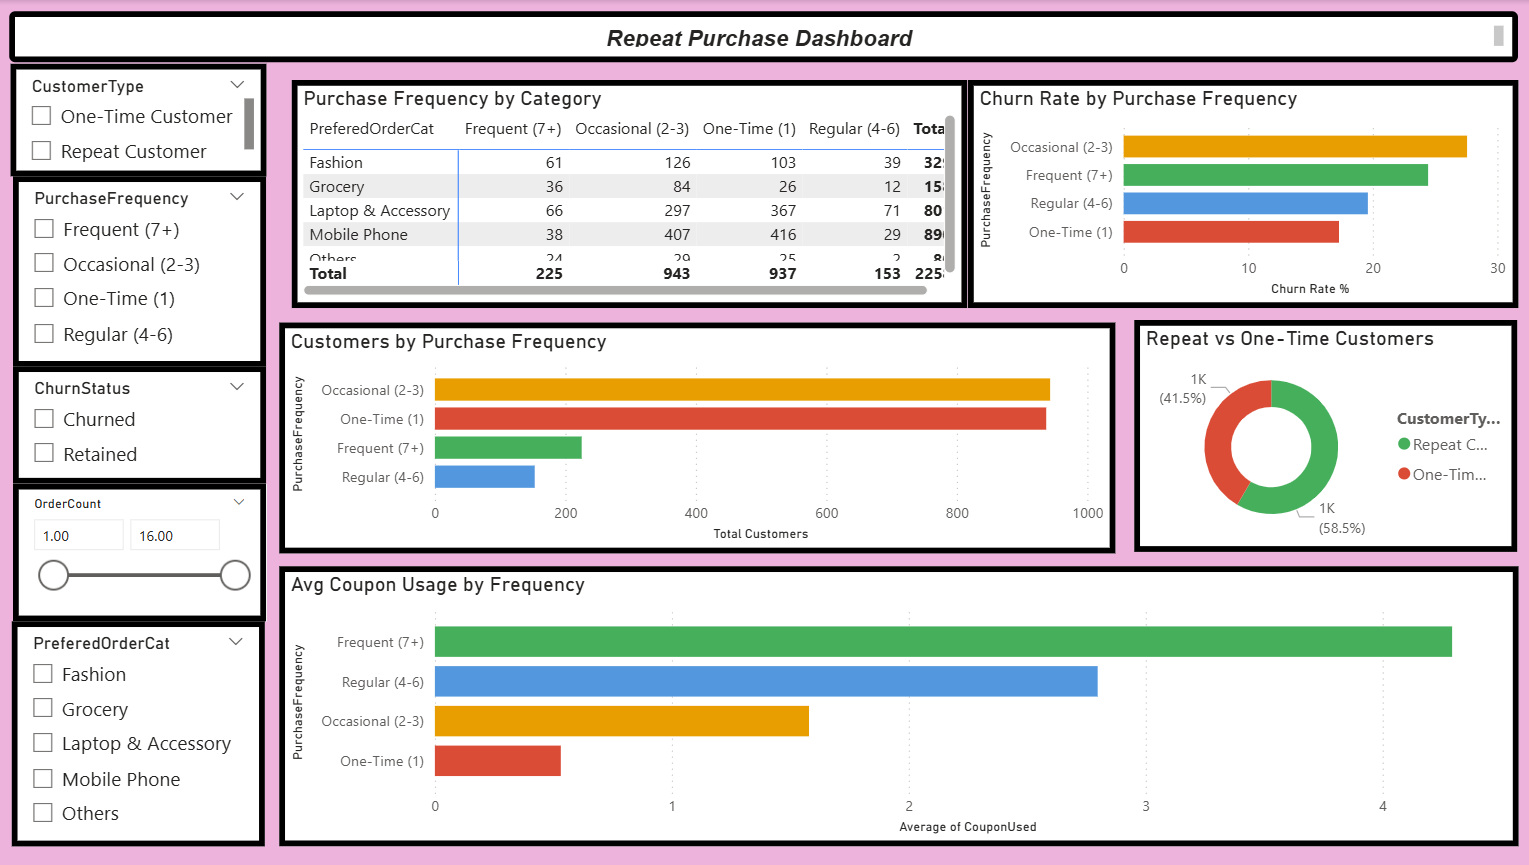

The page's visual inventory and layout, read from the dashboard file:
{"tool":"powerbi","page":{"name":"Repeat Purchase","canvas":[1280,720],"ordinal":3},"visuals":[{"type":"barChart","title":"Churn Rate by Purchase Frequency","fields":{"Category":["ecommerce.PurchaseFrequency"],"Y":["ecommerce.Churn Rate %"]},"box":[810.5,66,457.5,189.7],"z":0},{"type":"donutChart","title":"Repeat vs One-Time Customers","fields":{"Category":["ecommerce.CustomerType"],"Y":["ecommerce.Total Customers"]},"box":[948.8,266.3,318.6,193],"z":1000},{"type":"barChart","title":"Customers by Purchase Frequency","fields":{"Category":["ecommerce.PurchaseFrequency"],"Y":["ecommerce.Total Customers"]},"box":[237.7,267.8,695.2,192.1],"z":2000},{"type":"barChart","title":"Avg Coupon Usage by Frequency","fields":{"Category":["ecommerce.PurchaseFrequency"],"Y":["Avg(ecommerce.CouponUsed)"]},"box":[237.7,470.7,1030.2,232.9],"z":3000},{"type":"pivotTable","title":"Purchase Frequency by Category","fields":{"Rows":["ecommerce.PreferedOrderCat"],"Columns":["ecommerce.PurchaseFrequency"],"Values":["ecommerce.Total Customers"]},"box":[248.6,66,562,189.7],"z":4000},{"type":"textbox","box":[13.2,9.6,1254.8,42],"z":5000},{"type":"slicer","fields":{"Values":["ecommerce.CustomerType"]},"box":[14.4,52.8,212.5,93.7],"z":7000},{"type":"slicer","fields":{"Values":["ecommerce.OrderCount"]},"box":[16.8,402.3,210.1,114.1],"z":8000},{"type":"slicer","fields":{"Values":["ecommerce.PurchaseFrequency"]},"box":[16.8,146.5,210.1,158.5],"z":9000},{"type":"slicer","fields":{"Values":["ecommerce.ChurnStatus"]},"box":[16.8,305,210.1,97.3],"z":10000},{"type":"slicer","fields":{"Values":["ecommerce.PreferedOrderCat"]},"box":[15.6,516.3,210.1,187.3],"z":11000}]}

Visuals, with their boxes in screenshot pixels (x1, y1, x2, y2), scaled from the page's 1280x720 canvas onto the 1529x865 screenshot:
"Churn Rate by Purchase Frequency" barChart: left=968, top=79, right=1515, bottom=307
"Repeat vs One-Time Customers" donutChart: left=1133, top=320, right=1514, bottom=552
"Customers by Purchase Frequency" barChart: left=284, top=322, right=1114, bottom=553
"Avg Coupon Usage by Frequency" barChart: left=284, top=565, right=1515, bottom=845
"Purchase Frequency by Category" pivotTable: left=297, top=79, right=968, bottom=307
textbox: left=16, top=12, right=1515, bottom=62
slicer - ecommerce.CustomerType: left=17, top=63, right=271, bottom=176
slicer - ecommerce.OrderCount: left=20, top=483, right=271, bottom=620
slicer - ecommerce.PurchaseFrequency: left=20, top=176, right=271, bottom=366
slicer - ecommerce.ChurnStatus: left=20, top=366, right=271, bottom=483
slicer - ecommerce.PreferedOrderCat: left=19, top=620, right=270, bottom=845
